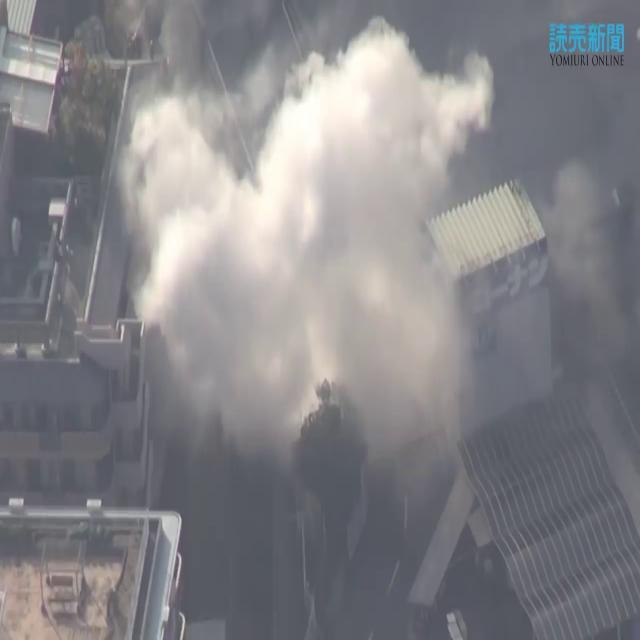Smoke: (10, 5, 618, 637)
